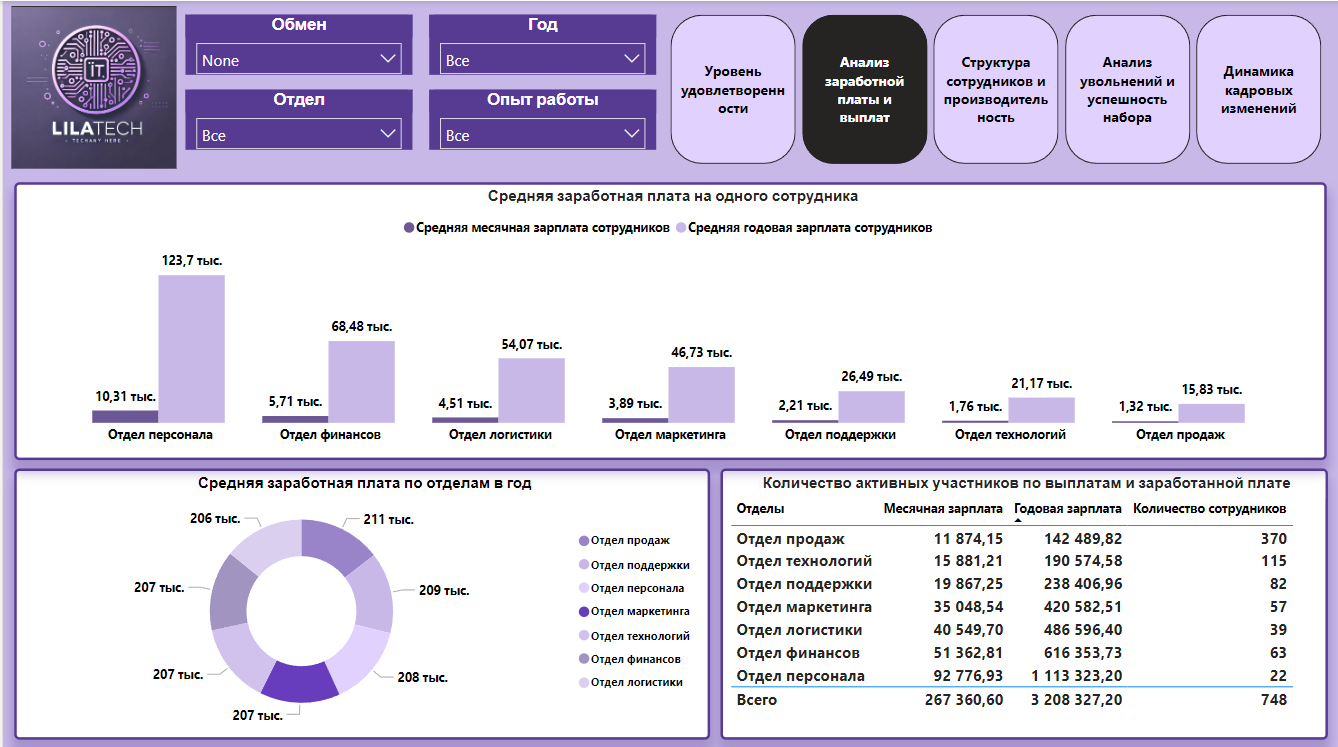

What the dashboard file says about the page in this screenshot:
{"tool":"powerbi","page":{"name":"Анализ заработной платы и выплат","canvas":[1280,720],"ordinal":1},"visuals":[{"type":"donutChart","title":"Средняя заработная плата по отделам в год","fields":{"Category":["Salary.Dept"],"Y":["Salary.EXCH SalaryforDeptYear"]},"box":[11.2,448.8,667.5,260],"z":0},{"type":"tableEx","title":"Количество активных участников по выплатам и заработанной плате","fields":{"Values":["Salary.Dept","Salary.Converted Salary","Salary.EXCH Year Employee Salary","Sum(Salary.Quantity of pers)"]},"box":[687.5,448.8,582.5,260],"z":1000},{"type":"clusteredColumnChart","title":"Средняя заработная плата на одного сотрудника","fields":{"Category":["Salary.Dept"],"Y":["Salary.EXCH AVG Monthly Employee Salary","Salary.EXCH AnnualEmployeeSalary"]},"box":[11.2,173.8,1258.8,266.2],"z":2000},{"type":"image","box":[0,0,175,166],"z":3000},{"type":"slicer","title":"Обмен","fields":{"Values":["Currency.Currency"]},"box":[175,13.8,217.5,57.5],"z":4000},{"type":"slicer","title":"Год","fields":{"Values":["Salary.Year"]},"box":[408.8,13.8,217.5,57.5],"z":5000},{"type":"slicer","title":"Отдел","fields":{"Values":["Salary.Dept"]},"box":[175,85,217.5,57.5],"z":6000},{"type":"slicer","title":"Опыт работы","fields":{"Values":["Salary.work experience"]},"box":[408.8,85,217.5,57.5],"z":7000},{"type":"pageNavigator","box":[640,13.8,626.2,143.8],"z":8000}]}

Visuals, with their boxes in screenshot pixels (x1, y1, x2, y2), scaled from the page's 1280x720 canvas onto the 1338x747 screenshot:
"Средняя заработная плата по отделам в год" donutChart: Rect(12, 466, 709, 735)
"Количество активных участников по выплатам и заработанной плате" tableEx: Rect(719, 466, 1328, 735)
"Средняя заработная плата на одного сотрудника" clusteredColumnChart: Rect(12, 180, 1328, 457)
image: Rect(0, 0, 183, 172)
"Обмен" slicer: Rect(183, 14, 410, 74)
"Год" slicer: Rect(427, 14, 655, 74)
"Отдел" slicer: Rect(183, 88, 410, 148)
"Опыт работы" slicer: Rect(427, 88, 655, 148)
pageNavigator: Rect(669, 14, 1324, 164)
